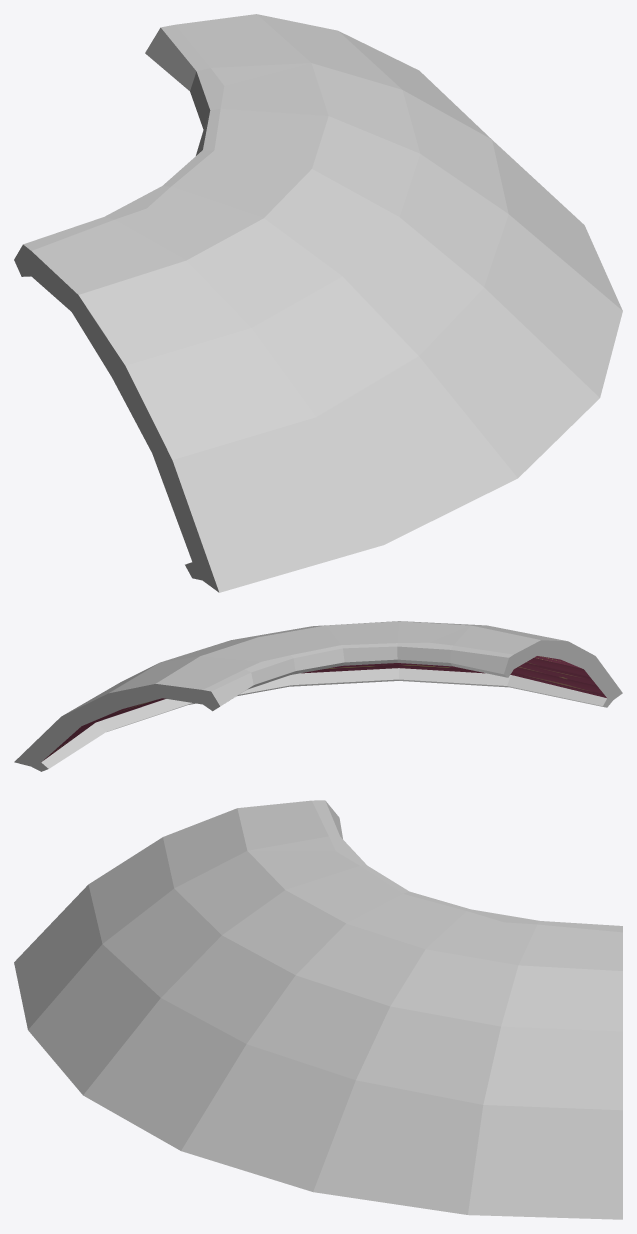
The model's file is SM_Bld_Roof_M_Convex_Corner_Out_03.fbx.
3 views of the same model, one above another, from view 1: azimuth 30°, elevation 25°; view 2: azimuth 150°, elevation 25°; view 3: azimuth 270°, elevation 25° (orthographic). The views are drawn at different scales.
Visible parts, largest first — view 1: SM_Bld_Roof_M_Convex_Corner_Out_03; view 2: SM_Bld_Roof_M_Convex_Corner_Out_03; view 3: SM_Bld_Roof_M_Convex_Corner_Out_03.
Boxes of the visible parts, x1,y1,x2,y2 form: SM_Bld_Roof_M_Convex_Corner_Out_03: [14, 14, 622, 592]; SM_Bld_Roof_M_Convex_Corner_Out_03: [14, 621, 622, 771]; SM_Bld_Roof_M_Convex_Corner_Out_03: [14, 800, 622, 1219].
Size of the model in its own units: 511 by 154 by 511.
